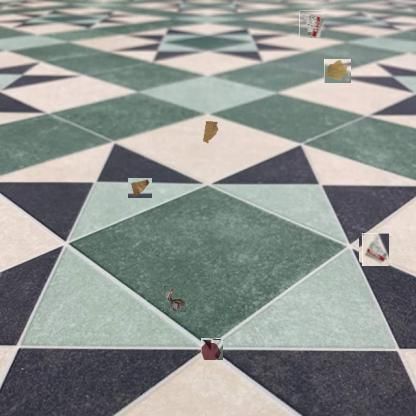dirty: (361, 235, 390, 264), (299, 10, 324, 38), (164, 286, 186, 312), (128, 178, 152, 198), (201, 118, 219, 144)
liquid: (324, 59, 351, 83), (202, 338, 224, 360)
